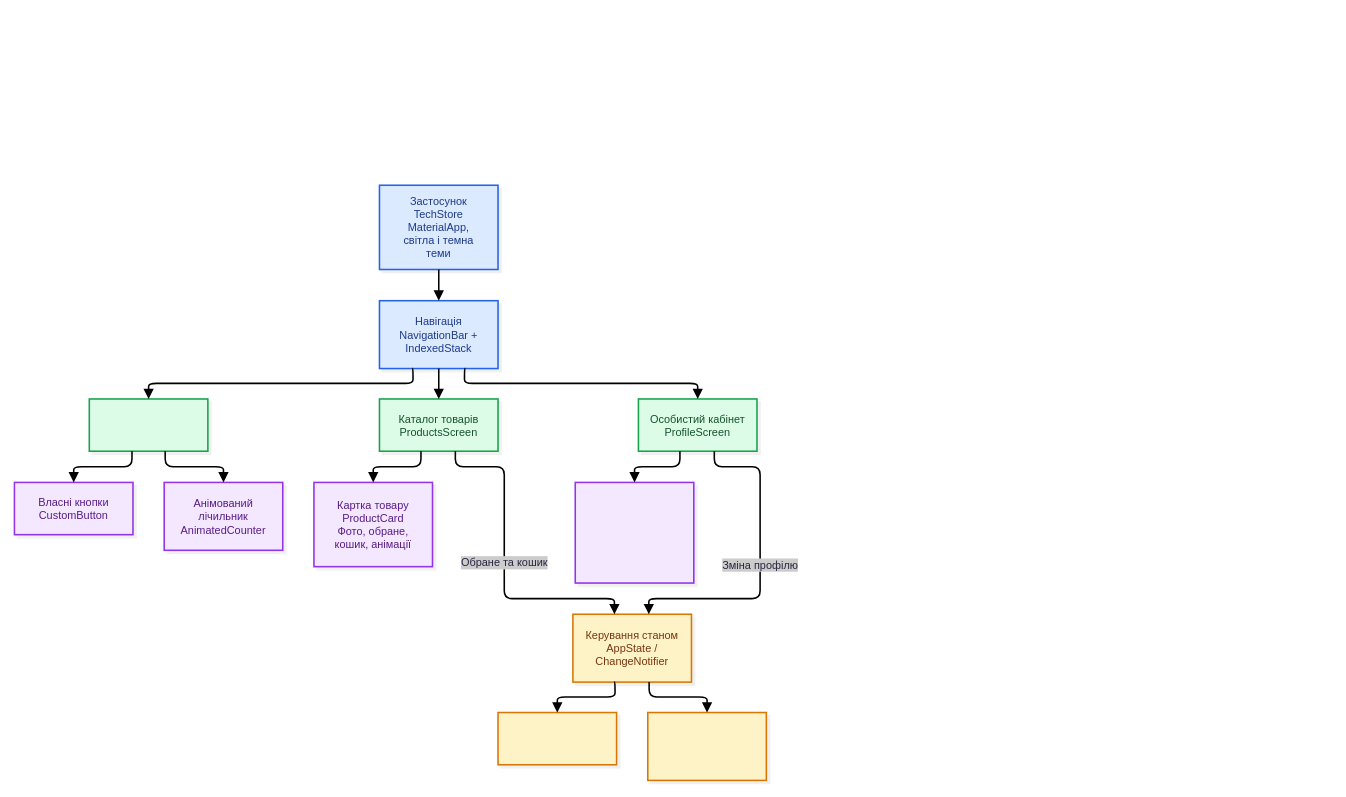
Image size: 1346x797. Some labels were removed from this diagram. Here are the shapes that lost their labels. From the top down, the centre of each, then its label:
pixel 149 426: Головний екран HomeScreen
pixel 635 534: Профіль користувача ProfileWidget Редагування, компактний режим
pixel 558 739: Моделі даних User та Product
pixel 708 747: Оновлення інтерфейсу notifyListeners()
